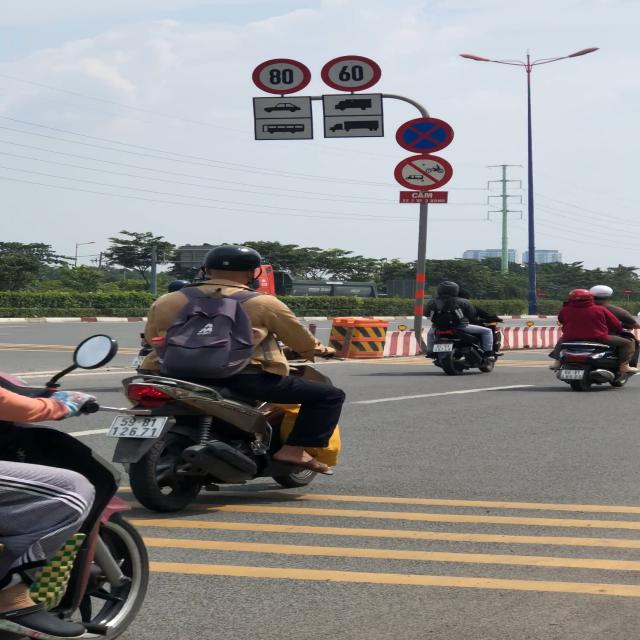Bien bao cam dung xe va do xe: (394, 118, 461, 154)
Bien bao toc do toi da cho phep: (250, 57, 313, 97), (318, 55, 384, 92)
